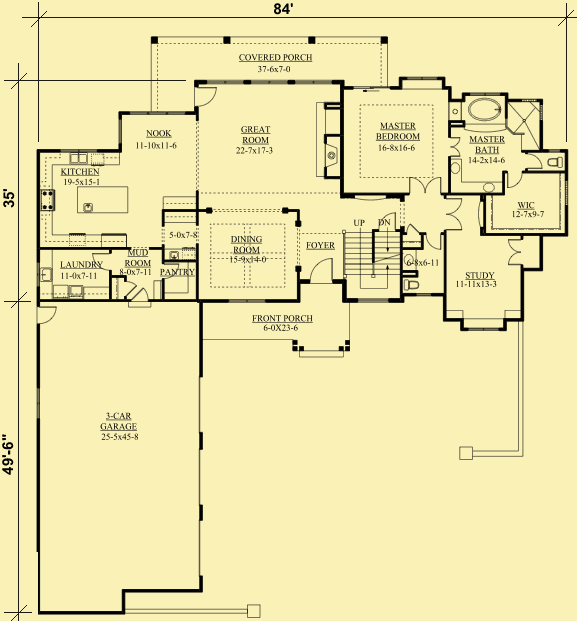door: (406, 174, 443, 198), (445, 195, 467, 234), (308, 255, 335, 284), (35, 301, 61, 326), (195, 85, 219, 111), (508, 234, 523, 267), (446, 134, 463, 158), (505, 168, 524, 188), (425, 235, 444, 251)
kitchen_bar: (76, 184, 130, 218)
large_sink: (405, 274, 421, 294)
small_sink: (543, 150, 566, 170)
stairs: (345, 218, 401, 305)
tub: (464, 91, 508, 125)
twin_sink: (69, 150, 88, 163)
